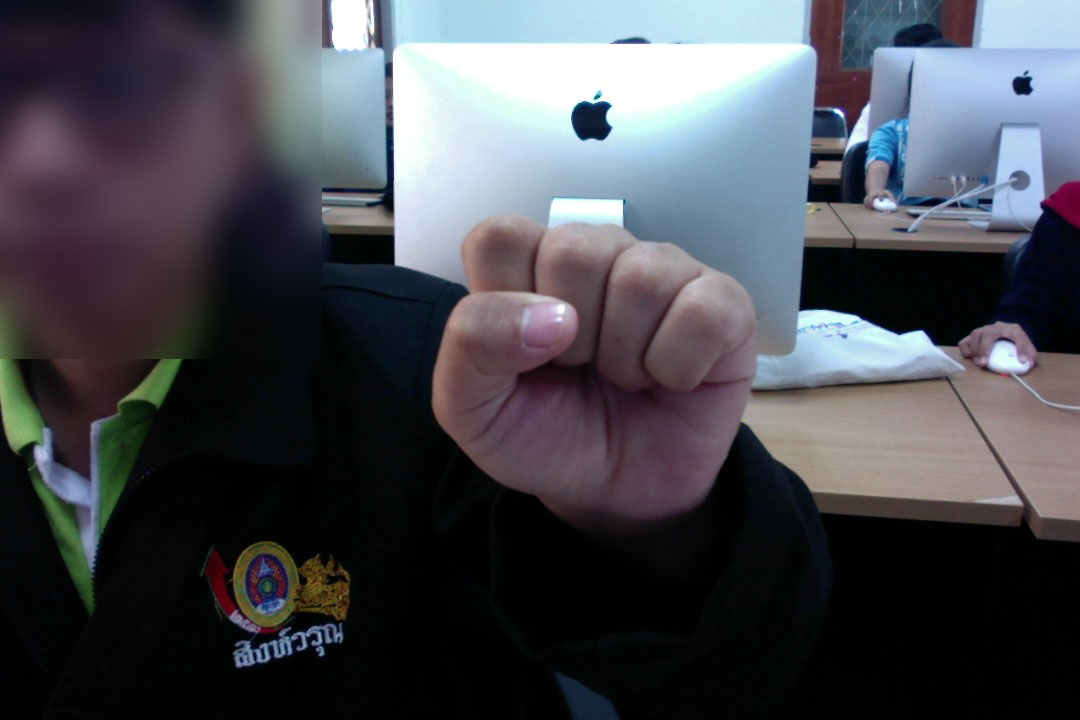sor: (417, 202, 774, 536)
